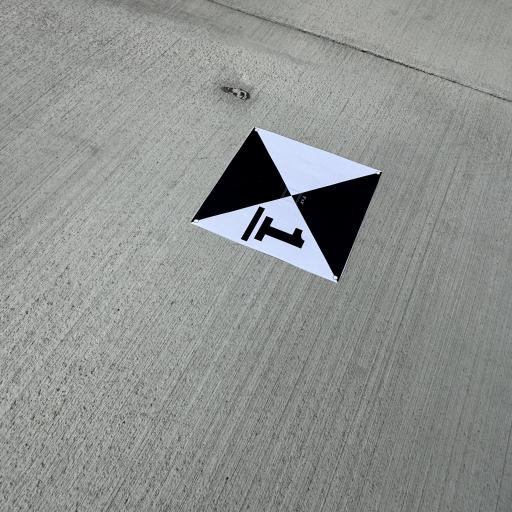target1: (179, 119, 388, 295)
